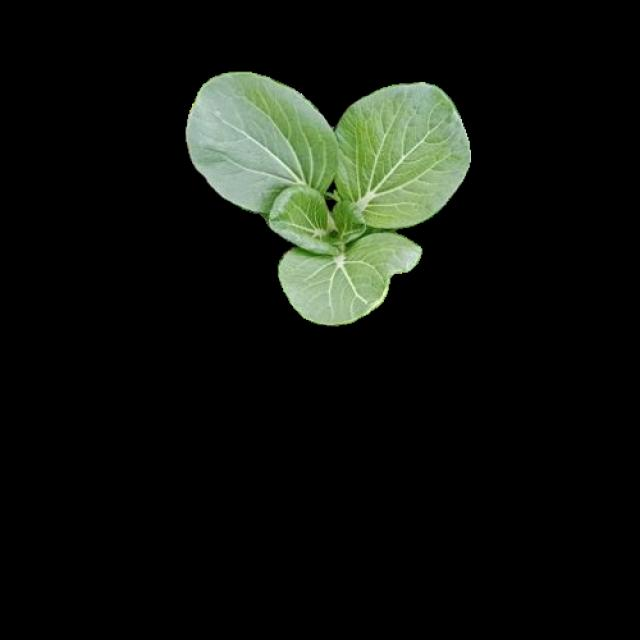healthy: (184, 68, 466, 321)
not-mature: (187, 70, 468, 324)
